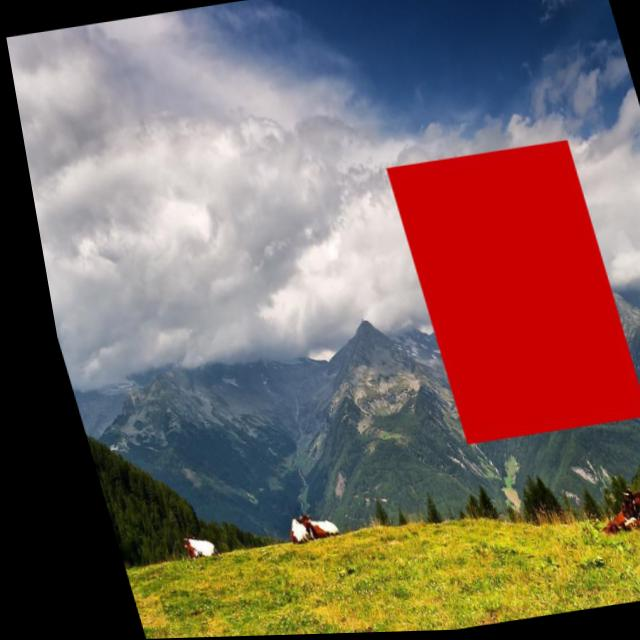RedSquare: (368, 132, 640, 456)
